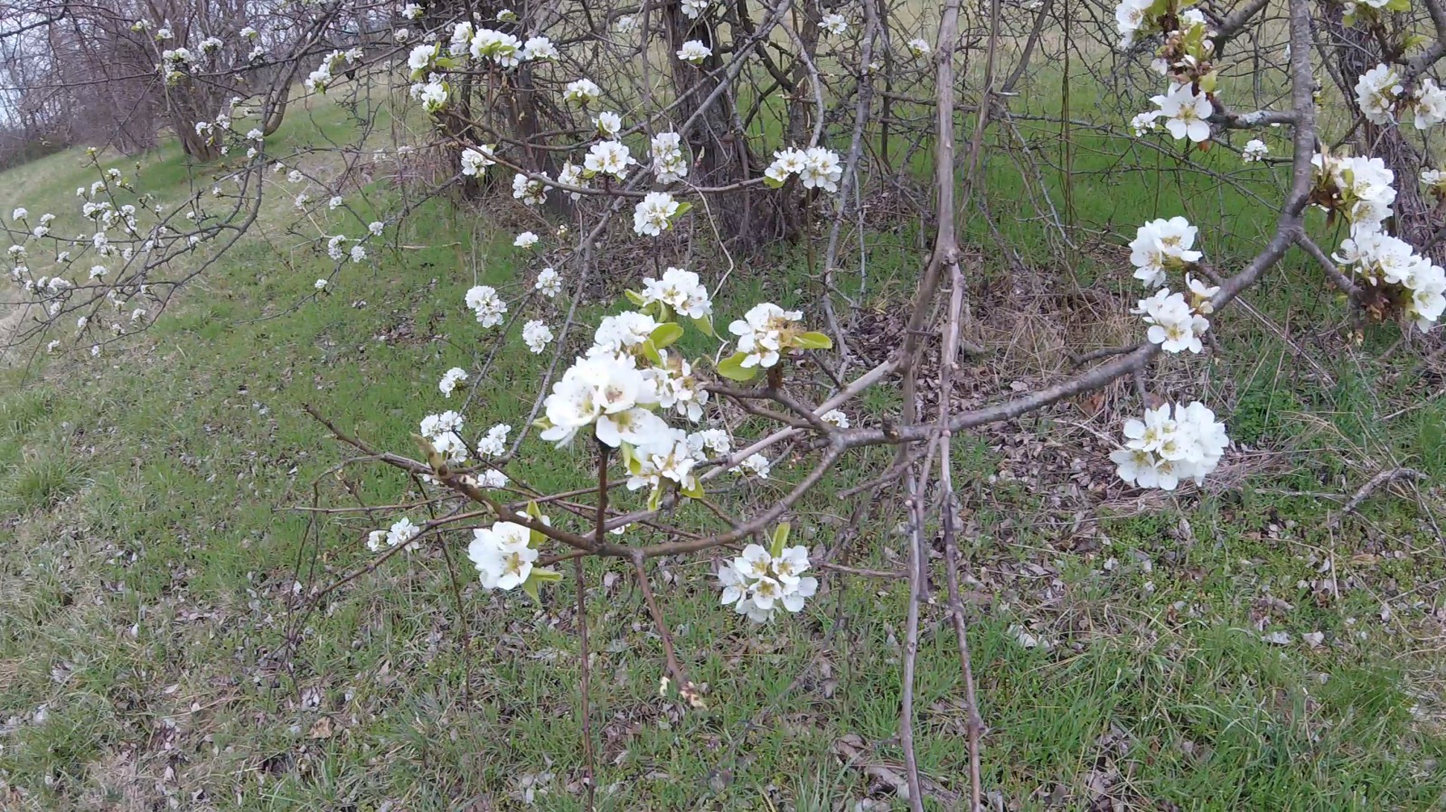flower: (540, 311, 730, 491), (1325, 150, 1446, 334), (1107, 399, 1230, 490), (712, 545, 818, 627), (559, 112, 651, 189), (446, 22, 561, 80), (1129, 217, 1203, 289), (1130, 80, 1214, 143), (1130, 288, 1210, 353), (468, 522, 539, 593), (728, 303, 803, 368), (626, 267, 713, 320), (765, 147, 843, 192), (1355, 62, 1405, 126), (634, 191, 693, 237), (421, 411, 469, 464), (651, 132, 691, 187), (1113, 0, 1155, 51), (378, 517, 420, 563), (465, 286, 508, 329), (677, 16, 713, 64), (1413, 79, 1446, 130), (410, 72, 447, 111), (1186, 273, 1221, 308), (477, 425, 512, 458), (522, 320, 554, 355), (462, 148, 496, 178), (563, 79, 605, 102), (439, 368, 469, 398), (408, 45, 436, 75), (536, 268, 564, 297), (474, 468, 512, 489), (741, 453, 771, 479), (821, 409, 861, 428), (818, 14, 851, 37), (512, 174, 539, 199), (681, 0, 708, 20), (397, 3, 426, 20), (515, 500, 535, 523), (514, 232, 539, 250), (368, 531, 389, 552), (404, 542, 419, 571), (1419, 170, 1446, 185), (1147, 58, 1169, 76), (1183, 9, 1207, 25), (1244, 139, 1269, 154), (908, 38, 932, 53), (524, 197, 541, 218), (539, 186, 553, 204), (571, 192, 582, 212), (478, 145, 493, 156), (1391, 84, 1404, 96), (466, 479, 474, 487)
